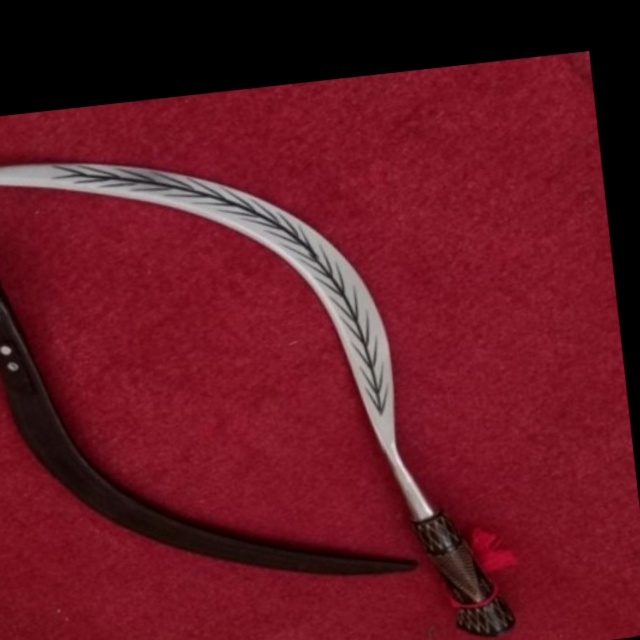Sharp-Object: (0, 65, 523, 640)
